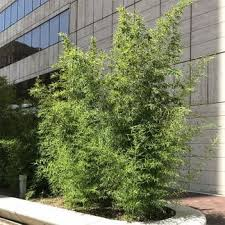bamboo: (60, 9, 202, 206), (34, 68, 136, 201)
